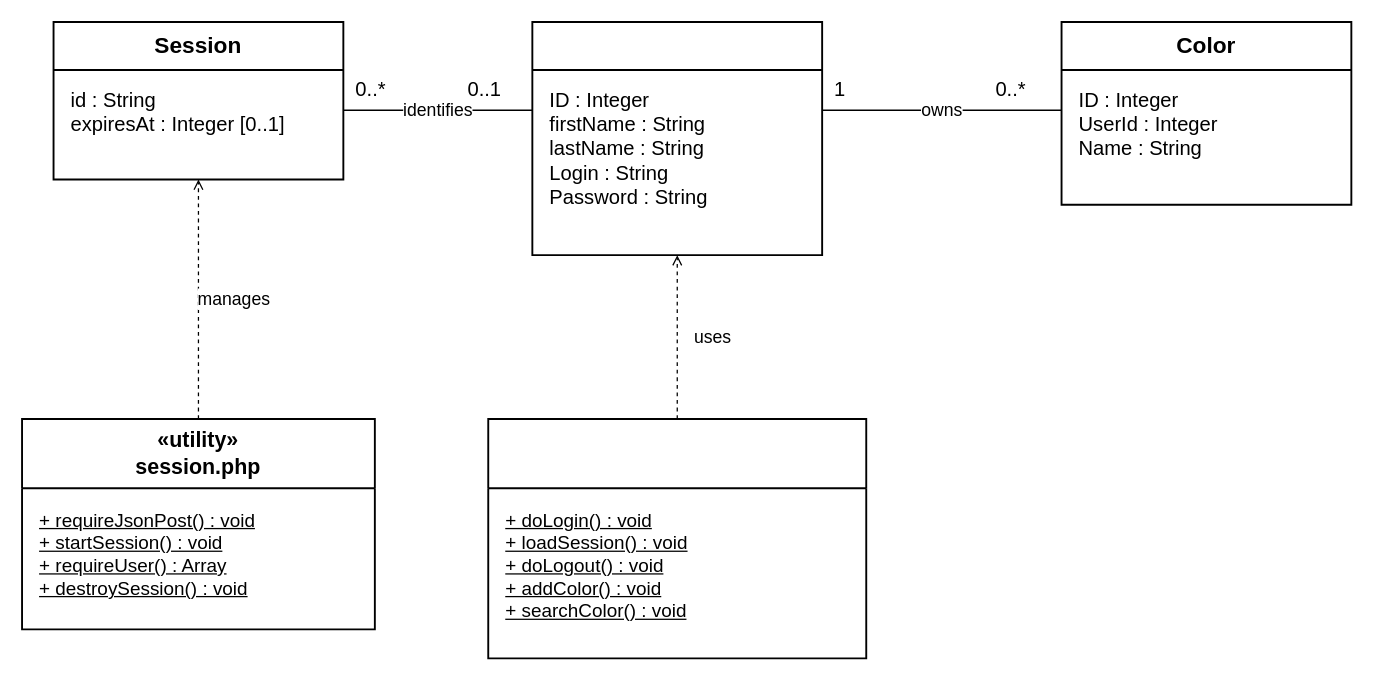
Some shapes in this 1375 by 682 pixel diagram are drawn without their labels. The box of each missing label's shape, as (x1, y1, x2, y2) in pixels:
User: (531, 21, 823, 256)
«utility» code.js: (487, 417, 867, 659)
